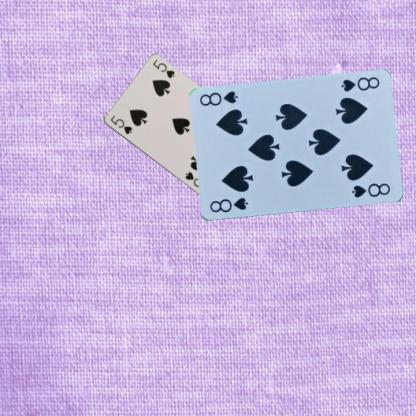5s: (108, 113, 134, 136)
8s: (338, 74, 380, 94), (207, 195, 249, 214)
